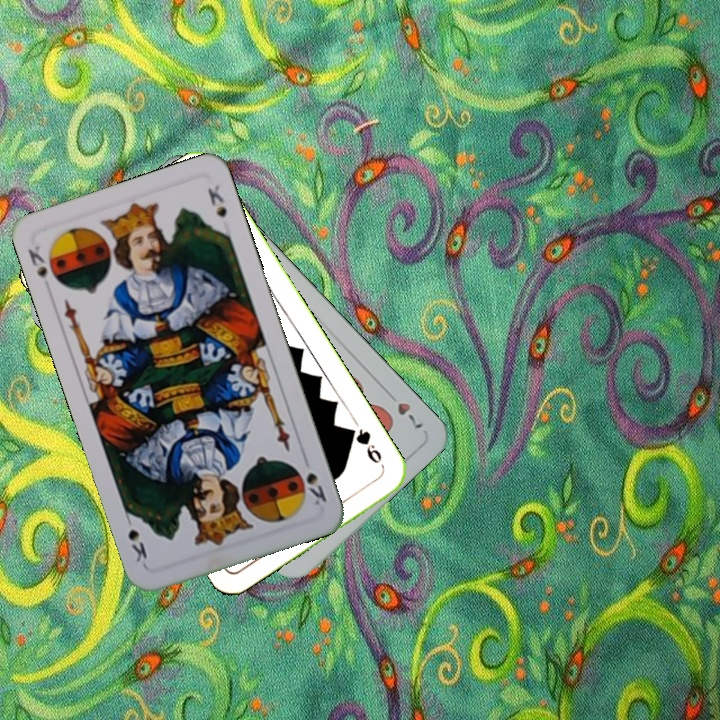G9: (344, 424, 385, 466)
H7: (382, 386, 426, 432)
SK: (293, 464, 330, 509), (24, 242, 50, 282)
